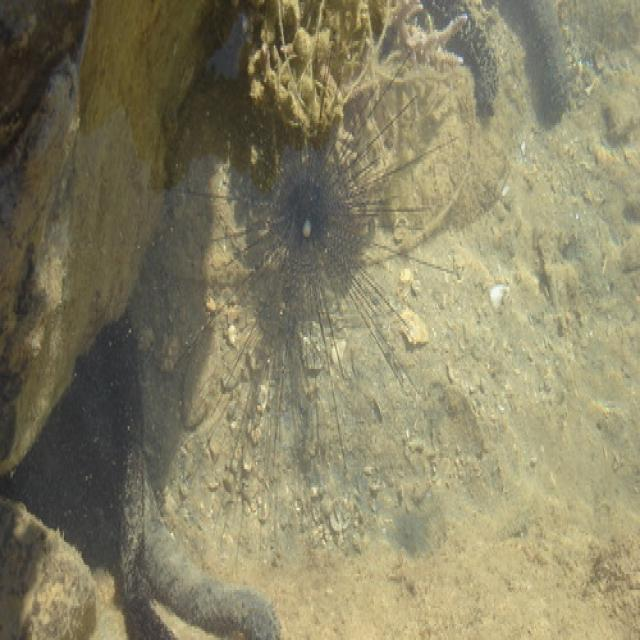Urchin: (168, 45, 464, 488)
